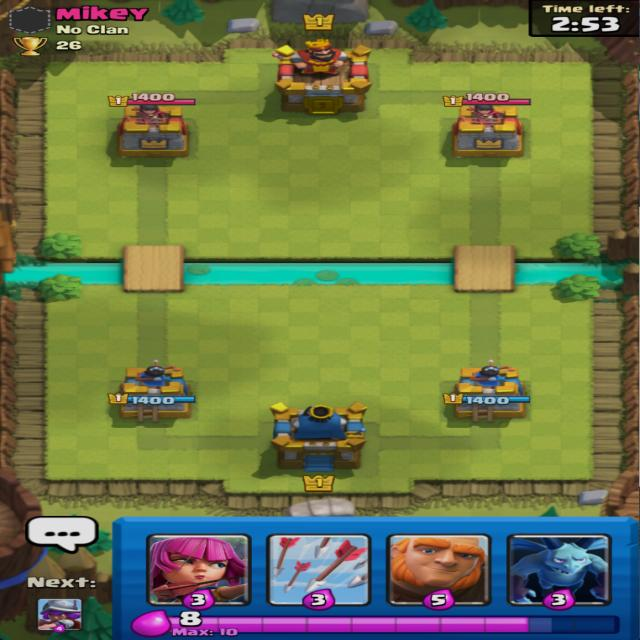8_Elixer: (180, 611, 203, 627)
Archers_Card: (146, 533, 252, 611)
Arrows_Card: (266, 534, 372, 611)
Bridge: (454, 245, 515, 292), (123, 245, 183, 291)
Elixer_Bar: (132, 609, 622, 639)
Emote: (26, 516, 98, 554)
Enemy_King_Tower: (253, 12, 384, 126)
Enemy_Princess_Tower: (103, 91, 198, 167), (441, 92, 533, 168)
Giant_Card: (387, 534, 492, 612)
King_Tower: (250, 400, 373, 492)
Minions_Card: (507, 534, 613, 611)
Musketeer_Next: (24, 577, 98, 633)
Princess_Tower: (439, 359, 534, 429), (106, 358, 198, 429)
River: (183, 258, 455, 284), (515, 258, 640, 285), (3, 258, 125, 284)
Time_Left: (528, 0, 639, 37)
